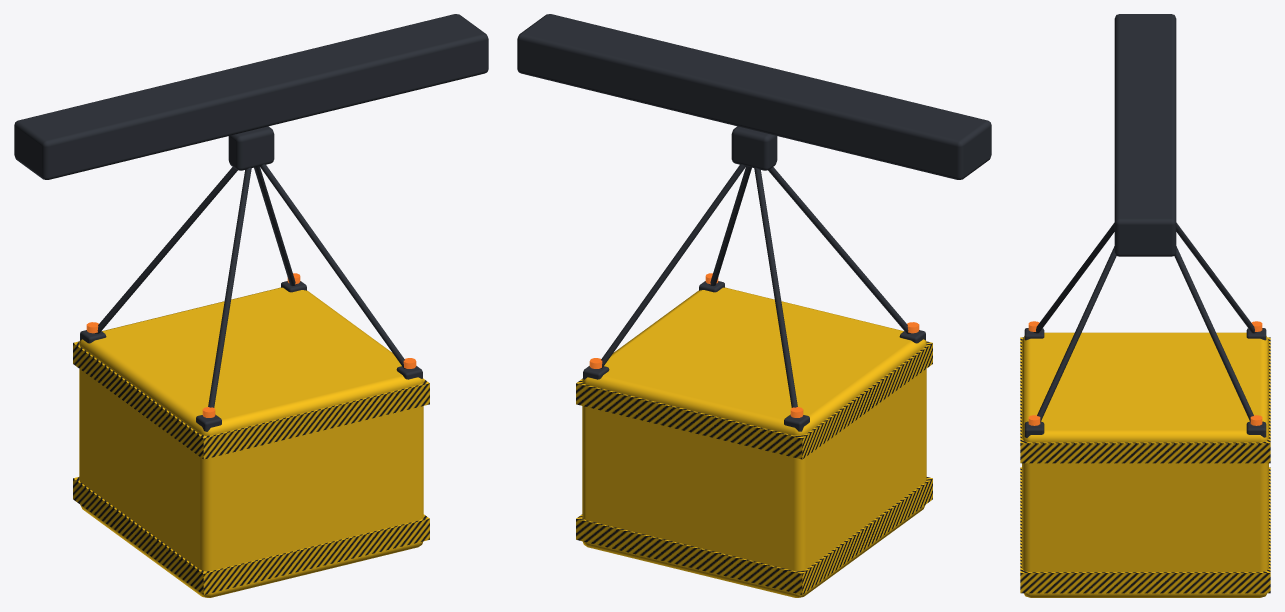
Rendered from obstacle_crane.glb.
The picture shows the model from 3 angles, left to right: view 1: azimuth 30°, elevation 25°; view 2: azimuth 150°, elevation 25°; view 3: azimuth 270°, elevation 25°; orthographic projection. The views are drawn at different scales.
Parts seen in each view (by area): view 1: CraneLoad; view 2: CraneLoad; view 3: CraneLoad.
Part boxes in pixels (x1,y1,x2,y2): CraneLoad: (14, 14, 488, 597); CraneLoad: (517, 14, 991, 597); CraneLoad: (1020, 14, 1270, 597).
Bounding box in the file's own units: 4 × 3.87 × 2.03.
4 materials, 1 textured.
